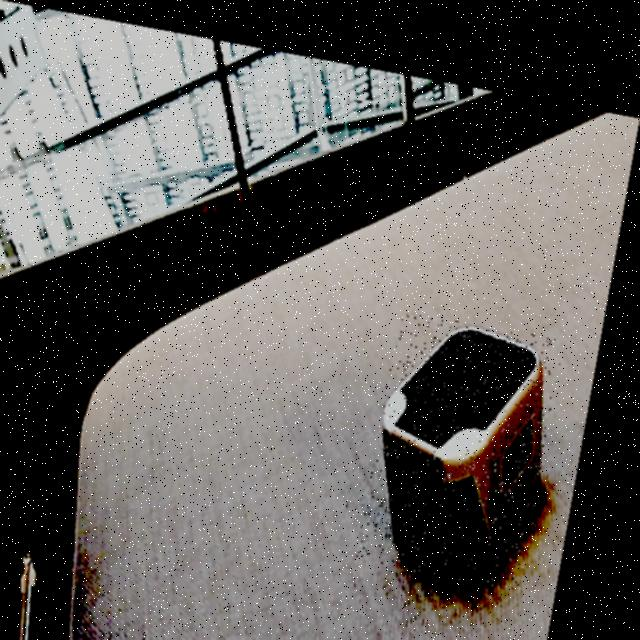adapter: (373, 292, 574, 569)
